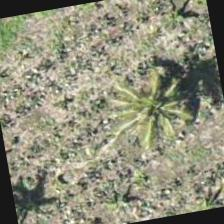Kelapa_Sawit: (96, 61, 201, 164)
